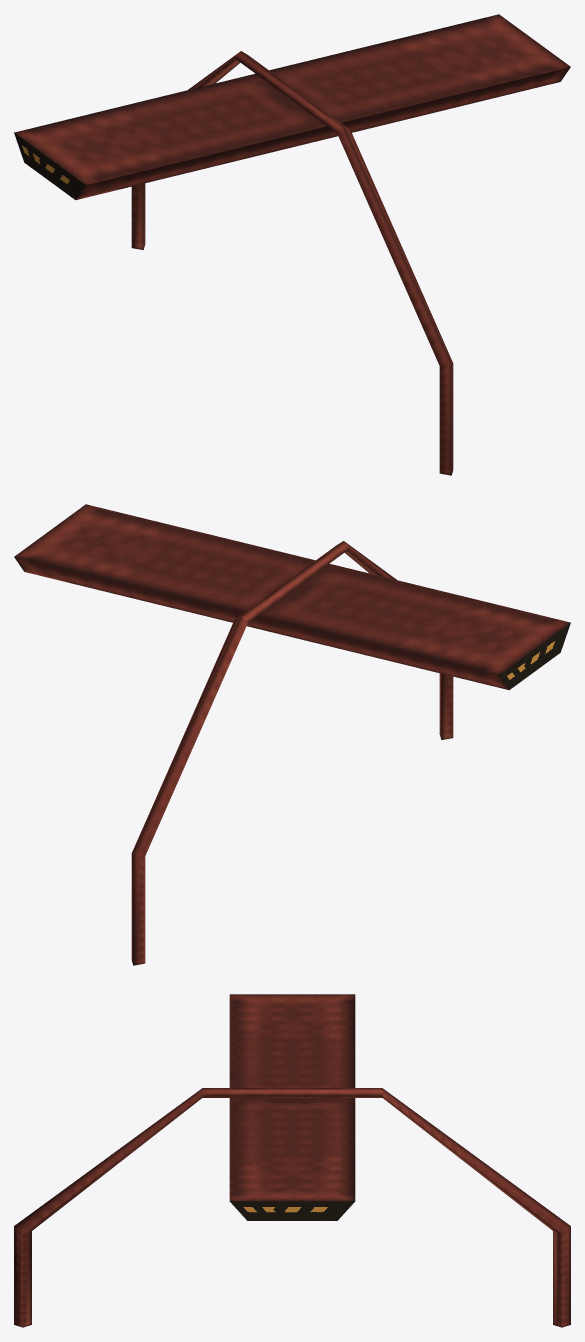
The model's file is airhockey_arch.glb.
3 views of the same model, one above another, from view 1: azimuth 30°, elevation 25°; view 2: azimuth 150°, elevation 25°; view 3: azimuth 270°, elevation 25° (orthographic). The views are drawn at different scales.
Visible parts, largest first — view 1: AirHockeyArch; view 2: AirHockeyArch; view 3: AirHockeyArch.
Part boxes in pixels (bbox=[...]): AirHockeyArch: bbox=[14, 14, 570, 475]; AirHockeyArch: bbox=[14, 504, 570, 965]; AirHockeyArch: bbox=[14, 994, 570, 1327].
Size of the model in its own units: 3.31 by 1.77 by 3.76.
1 material, 1 textured.
